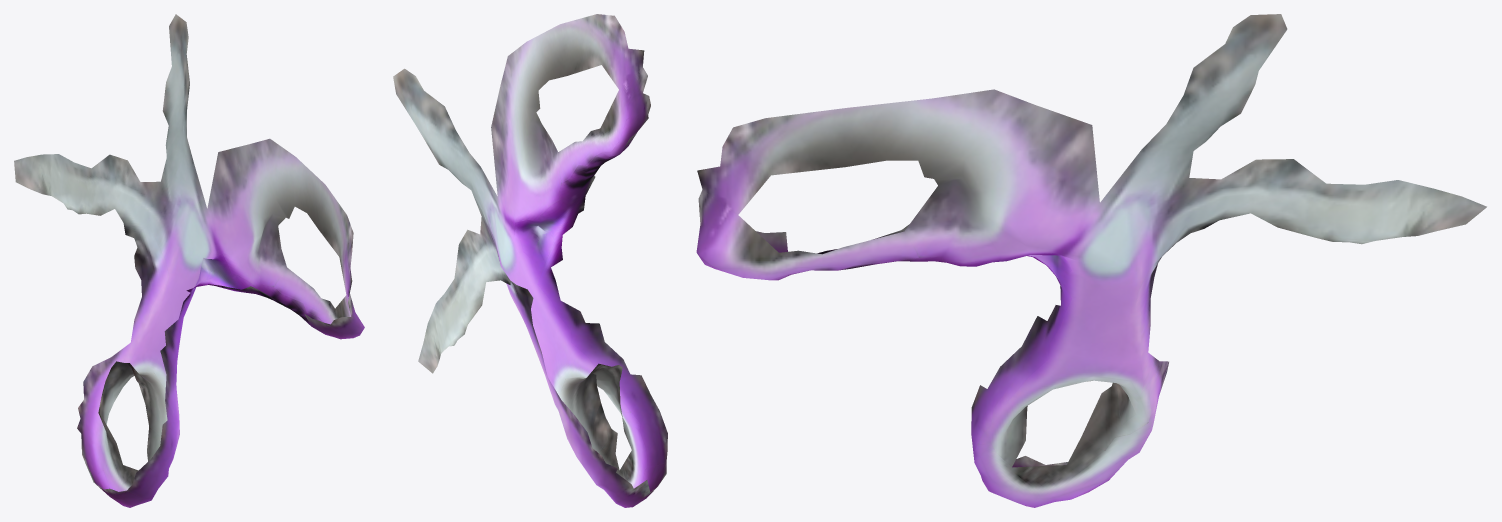
The model's file is ciseaux.glb.
3 views of the same model, side by side, from view 1: azimuth 30°, elevation 25°; view 2: azimuth 150°, elevation 25°; view 3: azimuth 270°, elevation 25° (orthographic). The views are drawn at different scales.
Parts seen in each view (by area): view 1: Object_2; view 2: Object_2; view 3: Object_2.
Boxes of the visible parts, x1,y1,x2,y2 form: Object_2: [14, 14, 364, 507]; Object_2: [393, 14, 667, 507]; Object_2: [696, 14, 1486, 507].
Size of the model in its own units: 0.1976 by 0.4762 by 0.5798.
Materials: 1 (1 with a texture image).
